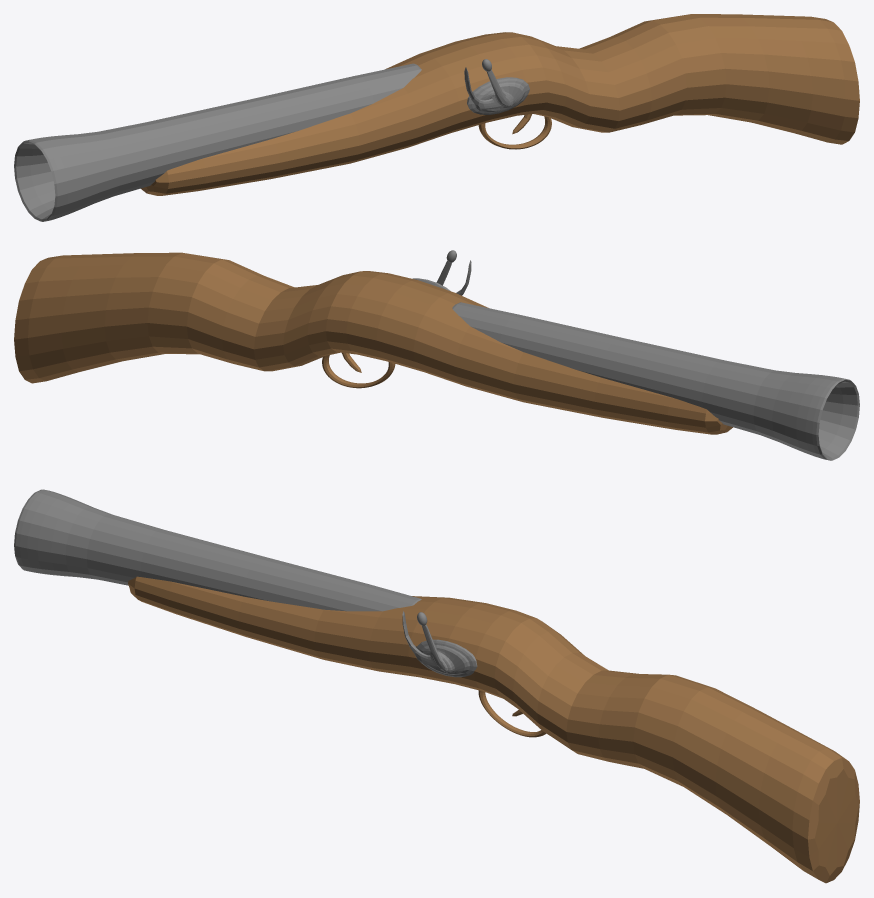
Rendered from 1shotgun.fbx.
3 views of the same model, one above another, from view 1: azimuth 30°, elevation 25°; view 2: azimuth 150°, elevation 25°; view 3: azimuth 330°, elevation 25° (orthographic).
Visible parts, largest first — view 1: Circle.001; view 2: Circle.001; view 3: Circle.001.
Part boxes in pixels (box(x1,y1,x2,y2)): Circle.001: box(14, 14, 859, 221); Circle.001: box(14, 250, 859, 460); Circle.001: box(14, 489, 859, 883).
Size of the model in its own units: 3409 by 806 by 454.
